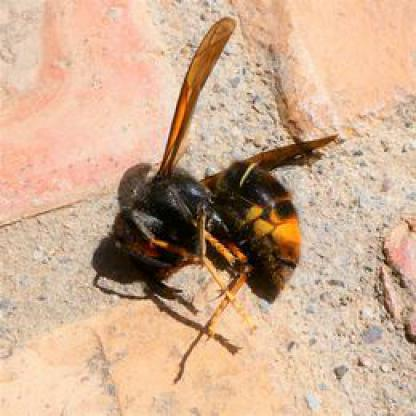Asian Hornet: (87, 17, 354, 324)
